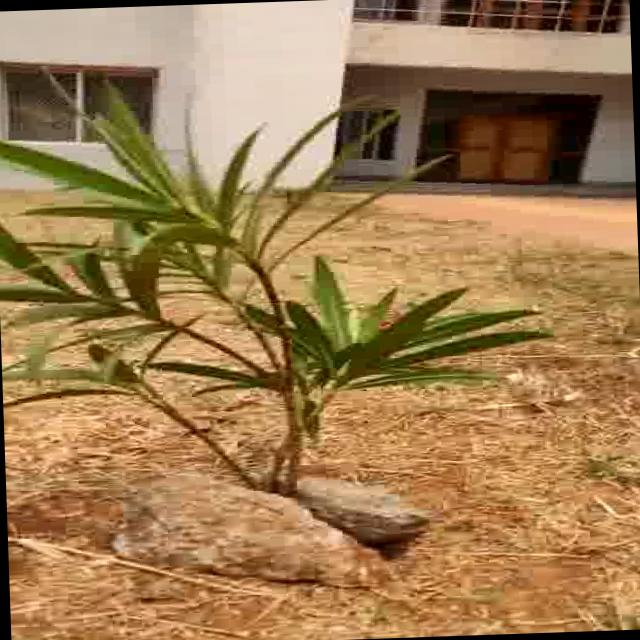OLEANDER: (0, 43, 555, 454)
